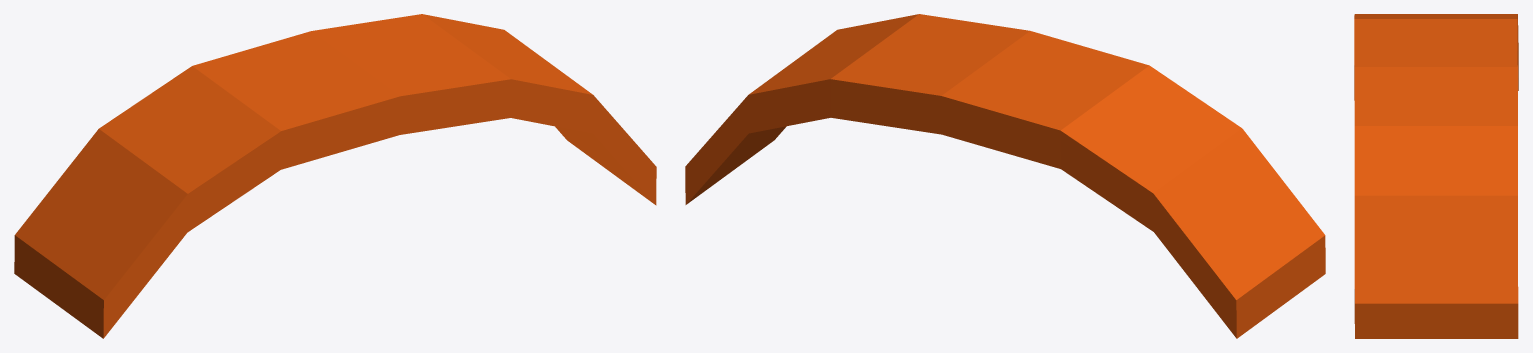
File: Untitled.blend. Bridge.fbx
3 views of the same model, side by side, from view 1: azimuth 30°, elevation 25°; view 2: azimuth 150°, elevation 25°; view 3: azimuth 270°, elevation 25° (orthographic). The views are drawn at different scales.
Visible parts, largest first — view 1: Plane; view 2: Plane; view 3: Plane.
Part boxes in pixels (x1,y1,x2,y2): Plane: [14, 14, 656, 338]; Plane: [685, 14, 1325, 338]; Plane: [1354, 14, 1518, 338].
Size of the model in its own units: 924 by 275 by 260.
